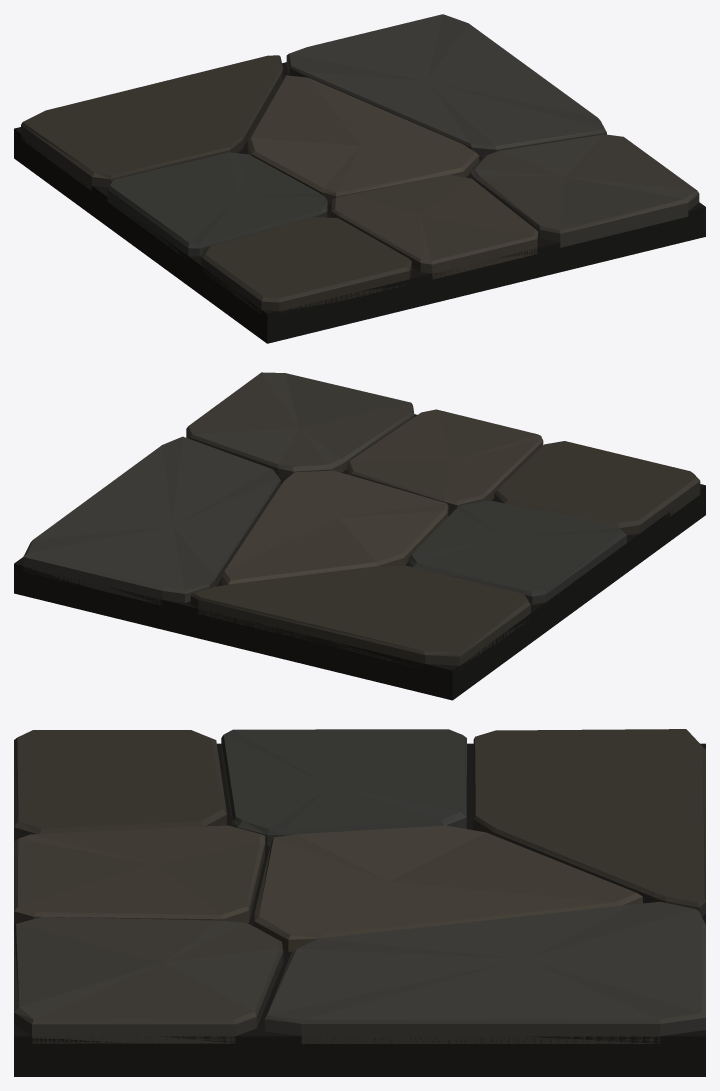
The model's file is Floor_2m_A.fbx.
3 renders of one model, top to bottom at view 1: azimuth 30°, elevation 25°; view 2: azimuth 150°, elevation 25°; view 3: azimuth 270°, elevation 25°, orthographic. The views are drawn at different scales.
Parts seen in each view (by area): view 1: Floor_2m_A; view 2: Floor_2m_A; view 3: Floor_2m_A.
Part boxes in pixels (x1,y1,x2,y2): Floor_2m_A: (14, 14, 705, 343); Floor_2m_A: (14, 372, 705, 700); Floor_2m_A: (14, 729, 705, 1076).
Size of the model in its own units: 2 by 0.18 by 2.
Materials: 1 (1 with a texture image).
